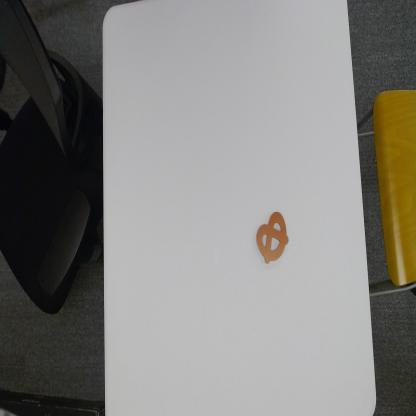Pretzel: (254, 208, 290, 267)
